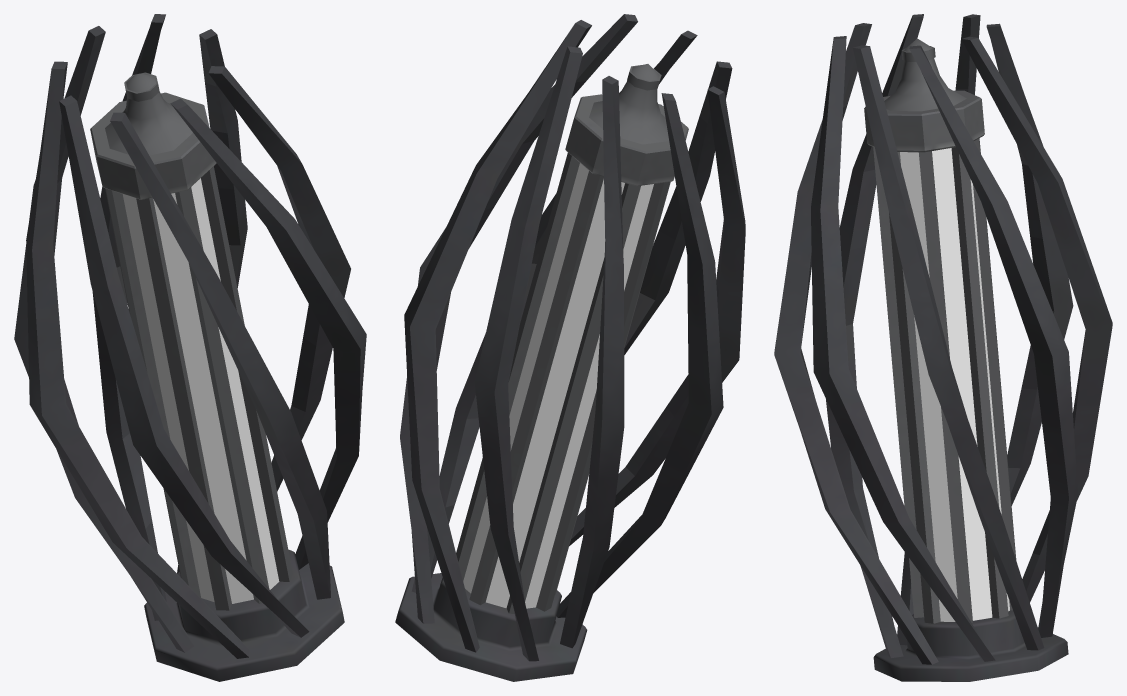
Rendered from field_winter_prop_capsule_s.fbx.
3 views of the same model, side by side, from view 1: azimuth 30°, elevation 25°; view 2: azimuth 150°, elevation 25°; view 3: azimuth 270°, elevation 25° (orthographic). The views are drawn at different scales.
Parts seen in each view (by area): view 1: field_winter_prop_capsule_s; view 2: field_winter_prop_capsule_s; view 3: field_winter_prop_capsule_s.
Part boxes in pixels (x1,y1,x2,y2): field_winter_prop_capsule_s: (14, 14, 366, 681); field_winter_prop_capsule_s: (395, 14, 745, 681); field_winter_prop_capsule_s: (774, 14, 1112, 681).
Bounding box in the file's own units: 118 × 234 × 118.
Materials: 2 (1 with a texture image).
